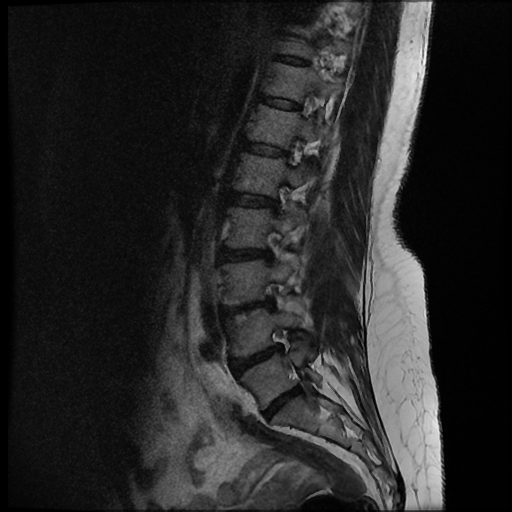RFS0: (260, 222, 295, 276)
RFS1: (258, 317, 305, 357)
